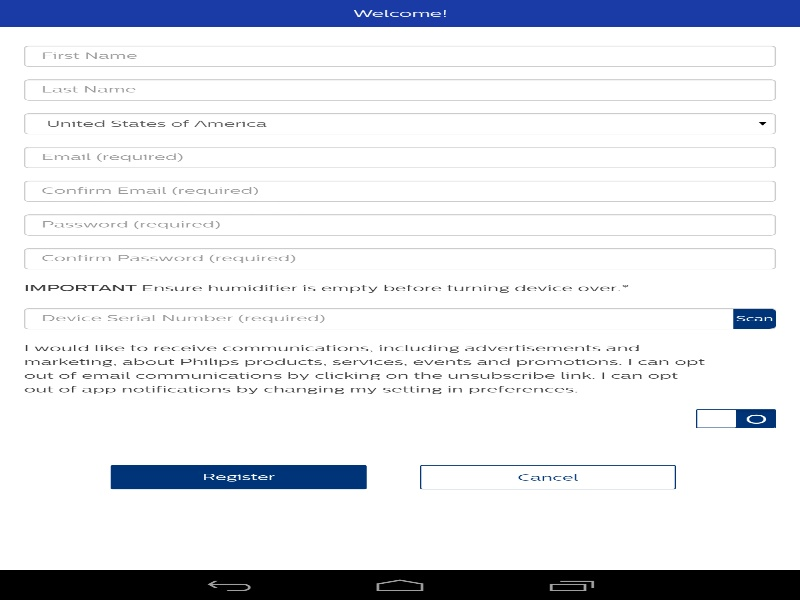Button: (24, 113, 776, 134), (110, 465, 366, 489)
Input: (24, 146, 776, 168), (24, 45, 776, 66), (24, 79, 776, 100), (24, 180, 776, 201), (24, 214, 776, 235), (24, 248, 776, 269), (24, 308, 776, 329)
